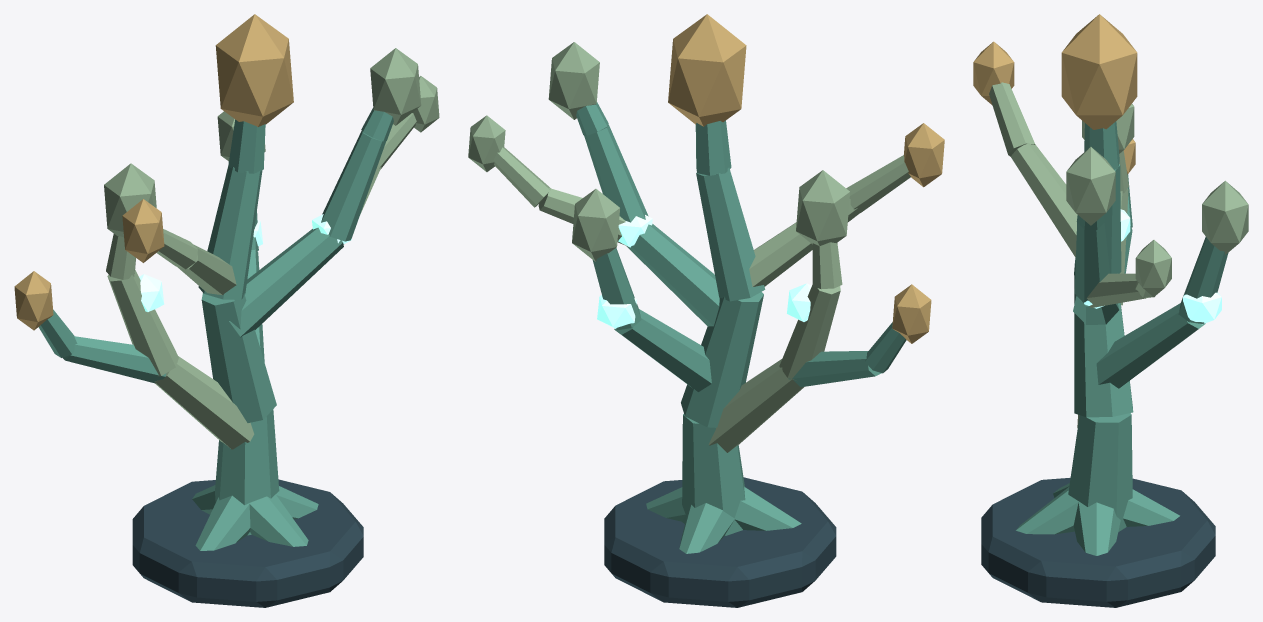
The model's file is tree.glb.
3 views of the same model, side by side, from view 1: azimuth 30°, elevation 25°; view 2: azimuth 150°, elevation 25°; view 3: azimuth 270°, elevation 25° (orthographic).
Parts seen in each view (by area): view 1: Coral root mound, Pale coral growth tip 0, Faceted coral branch 0-1, Faceted coral branch 2-0, Faceted coral branch 0-2, Faceted coral branch 0-0, Faceted coral branch 1-0, Faceted coral branch 2-1, Faceted coral branch 1-1, Pale coral growth tip 2, Faceted coral branch 6-0, Pale coral growth tip 1 (+15 smaller); view 2: Coral root mound, Pale coral growth tip 0, Faceted coral branch 0-1, Faceted coral branch 0-2, Faceted coral branch 0-0, Faceted coral branch 2-0, Faceted coral branch 1-0, Faceted coral branch 4-0, Pale coral growth tip 1, Pale coral growth tip 2, Faceted coral branch 2-1, Faceted coral branch 1-1 (+20 smaller); view 3: Coral root mound, Pale coral growth tip 0, Faceted coral branch 0-0, Faceted coral branch 0-1, Faceted coral branch 4-0, Faceted coral branch 3-0, Pale coral growth tip 2, Pale coral growth tip 4, Faceted coral branch 2-1, Exposed coral root, Faceted coral branch 3-1, Faceted coral branch 4-1 (+10 smaller).
Part boxes in pixels (x1=…): Coral root mound: x1=132, y1=479, x2=363, y2=607; Pale coral growth tip 0: x1=215, y1=14, x2=293, y2=126; Faceted coral branch 0-1: x1=201, y1=293, x2=276, y2=422; Faceted coral branch 2-0: x1=229, y1=227, x2=343, y2=337; Faceted coral branch 0-2: x1=198, y1=166, x2=262, y2=299; Faceted coral branch 0-0: x1=215, y1=409, x2=279, y2=535; Faceted coral branch 1-0: x1=155, y1=356, x2=254, y2=449; Faceted coral branch 2-1: x1=321, y1=131, x2=385, y2=241; Faceted coral branch 1-1: x1=107, y1=269, x2=178, y2=376; Pale coral growth tip 2: x1=370, y1=48, x2=421, y2=125; Faceted coral branch 6-0: x1=63, y1=336, x2=166, y2=383; Pale coral growth tip 1: x1=104, y1=163, x2=156, y2=237; Coral root mound: x1=604, y1=477, x2=836, y2=607; Pale coral growth tip 0: x1=668, y1=14, x2=746, y2=126; Faceted coral branch 0-1: x1=681, y1=292, x2=763, y2=427; Faceted coral branch 0-2: x1=696, y1=167, x2=765, y2=301; Faceted coral branch 0-0: x1=682, y1=414, x2=745, y2=535; Faceted coral branch 2-0: x1=626, y1=224, x2=719, y2=326; Faceted coral branch 1-0: x1=708, y1=359, x2=804, y2=452; Faceted coral branch 4-0: x1=614, y1=309, x2=711, y2=391; Pale coral growth tip 1: x1=796, y1=170, x2=849, y2=245; Pale coral growth tip 2: x1=548, y1=42, x2=599, y2=119; Faceted coral branch 2-1: x1=584, y1=124, x2=648, y2=222; Faceted coral branch 1-1: x1=779, y1=285, x2=840, y2=380; Coral root mound: x1=981, y1=477, x2=1215, y2=607; Pale coral growth tip 0: x1=1061, y1=14, x2=1137, y2=129; Faceted coral branch 0-0: x1=1068, y1=413, x2=1132, y2=531; Faceted coral branch 0-1: x1=1074, y1=276, x2=1133, y2=417; Faceted coral branch 4-0: x1=1096, y1=303, x2=1205, y2=388; Faceted coral branch 3-0: x1=1010, y1=142, x2=1077, y2=257; Pale coral growth tip 2: x1=1066, y1=147, x2=1115, y2=225; Pale coral growth tip 4: x1=1202, y1=180, x2=1248, y2=254; Faceted coral branch 2-1: x1=1074, y1=222, x2=1109, y2=302; Exposed coral root: x1=1073, y1=501, x2=1120, y2=555; Faceted coral branch 3-1: x1=989, y1=82, x2=1035, y2=156; Faceted coral branch 4-1: x1=1178, y1=236, x2=1228, y2=323.
Bounding box in the file's own units: 1.67 × 1.99 × 0.896.
